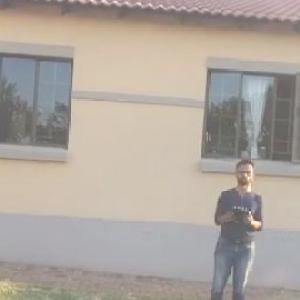follow: (198, 149, 268, 299)
